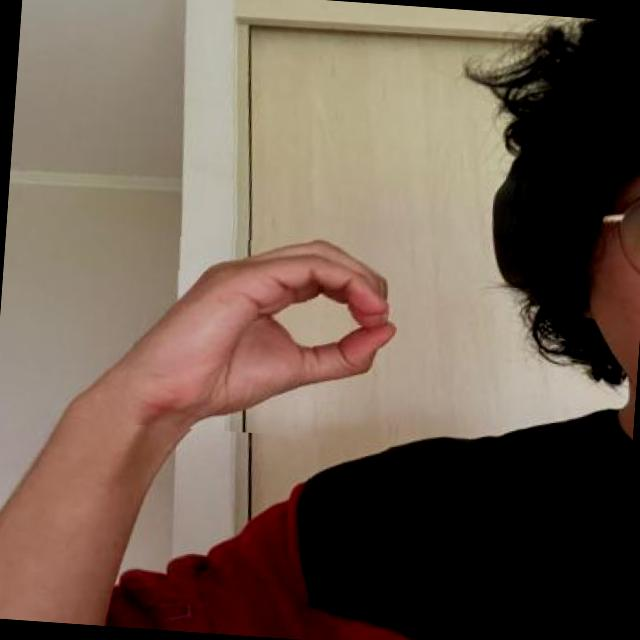O: (127, 212, 416, 443)
